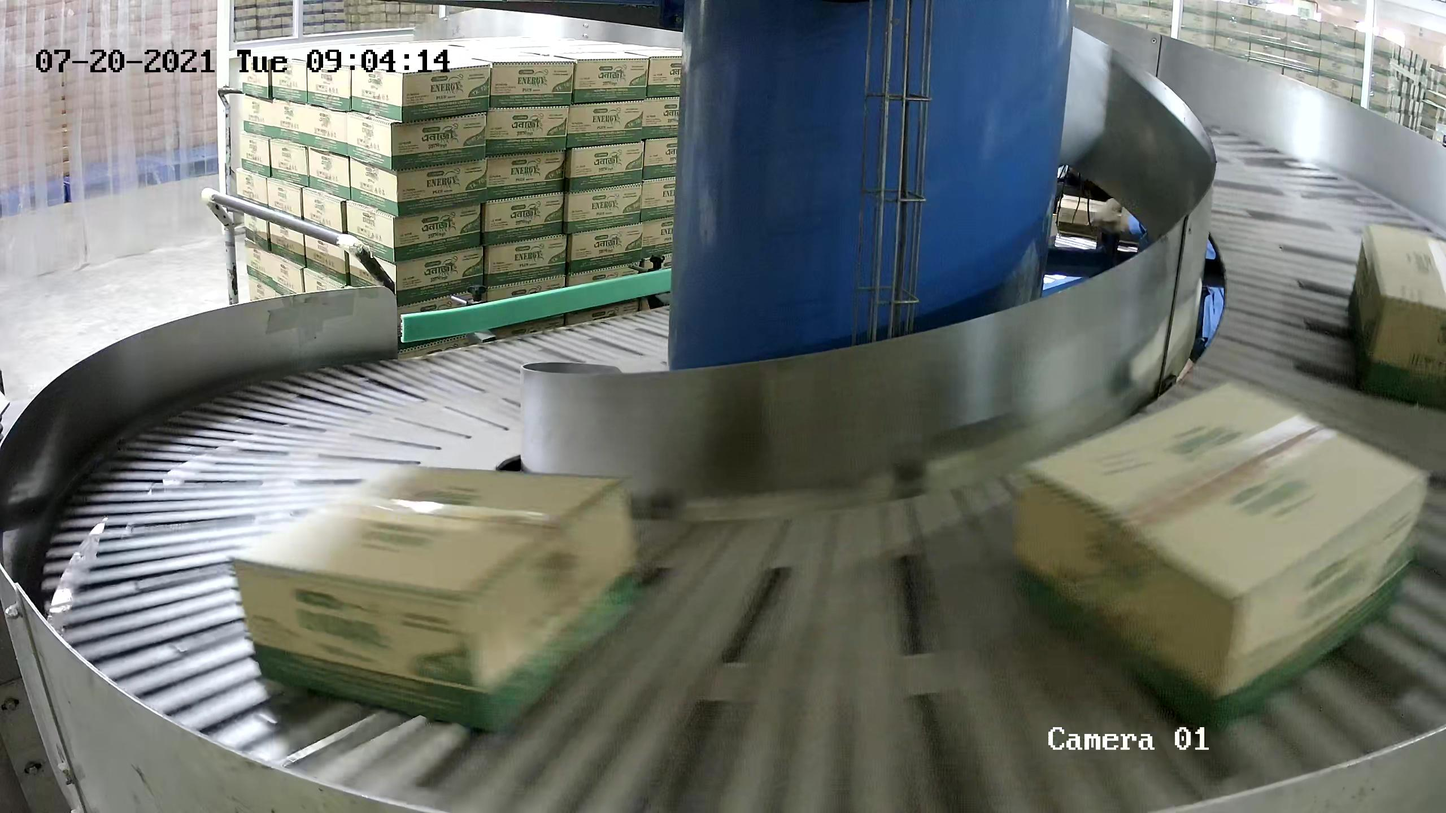Box: (1012, 372, 1432, 732), (225, 456, 646, 738), (1349, 220, 1446, 410)
